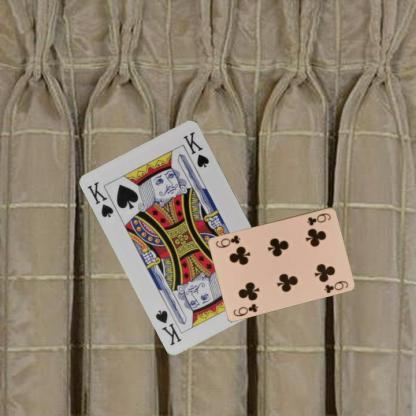6c: (231, 300, 260, 318), (305, 210, 332, 226)
Ks: (85, 179, 115, 219)
